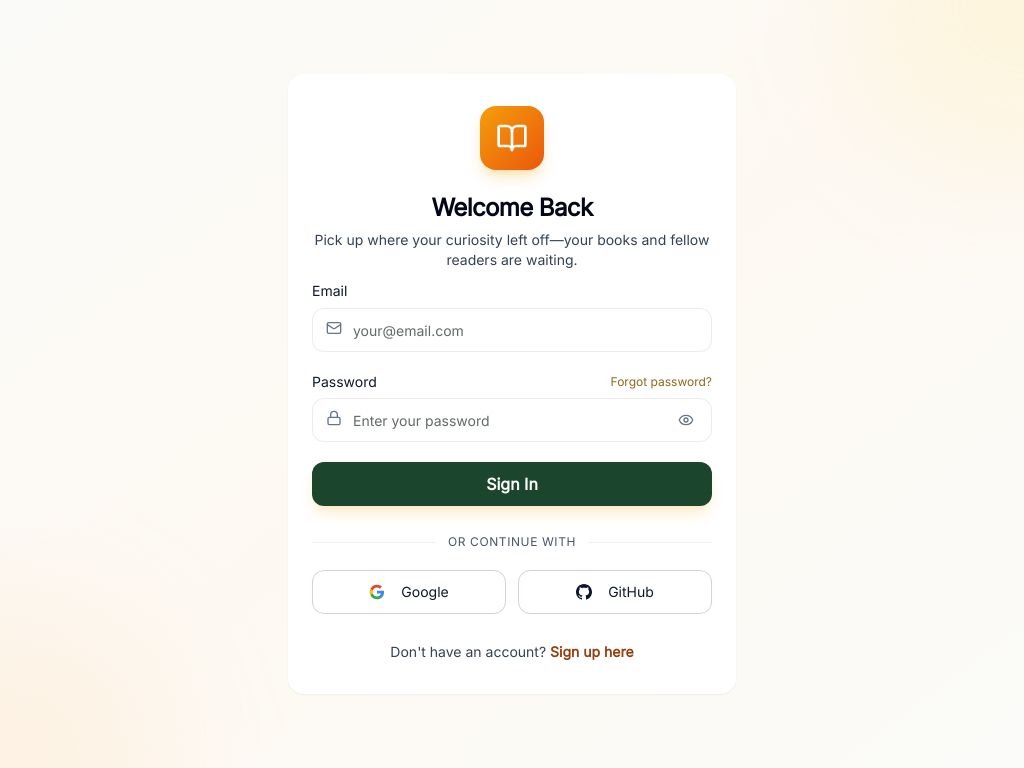
Scenario: Phase 3: Authentication and Account Entry › Dedicated Sign In page (/signin) › validates malformed email before CAPTCHA or authentication
The width and height of the screenshot is (1024, 768).
Type "not-an-email" into the field labelled "Email".
click(512, 330); type("not-an-email")  # box [312,308,712,352]
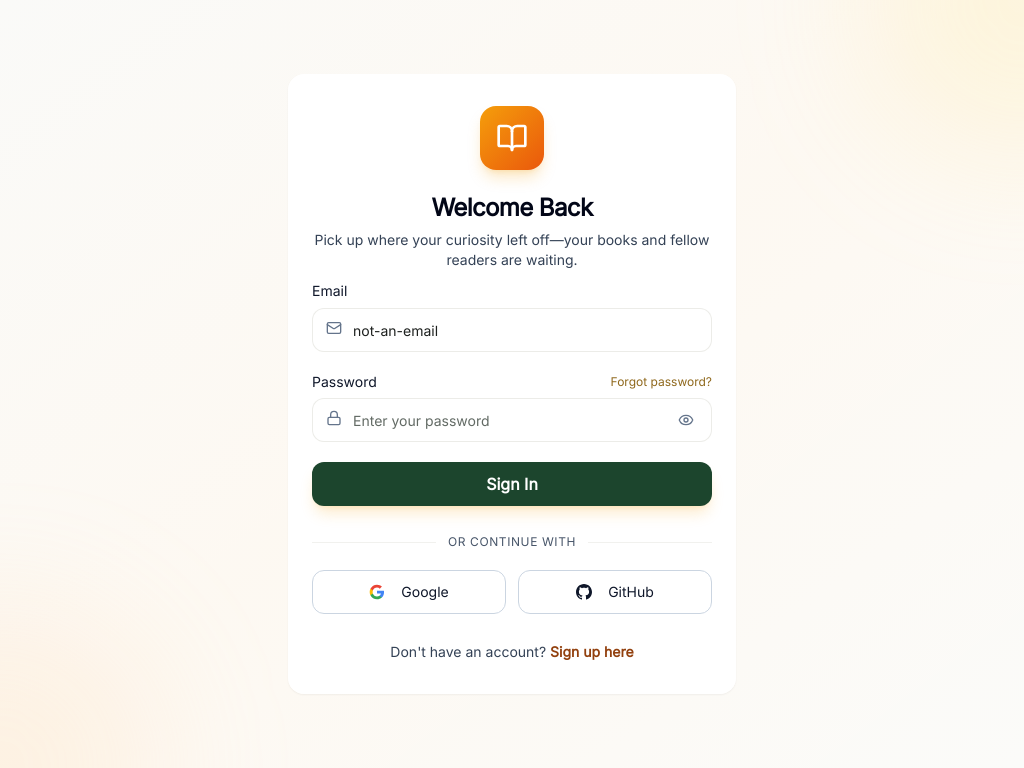
Type "example-password" into the password field labelled "Password".
click(512, 420); type("example-password")  # box [312,398,712,442]
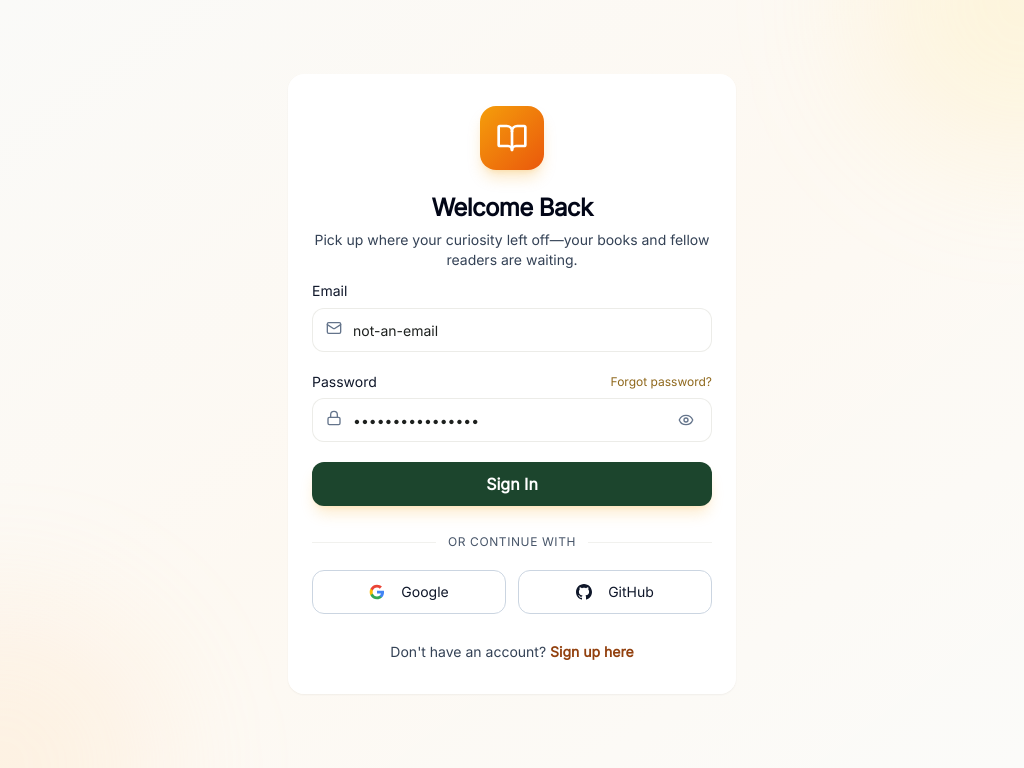
Click the button "Sign In".
click(512, 484)  # box [312,462,712,506]
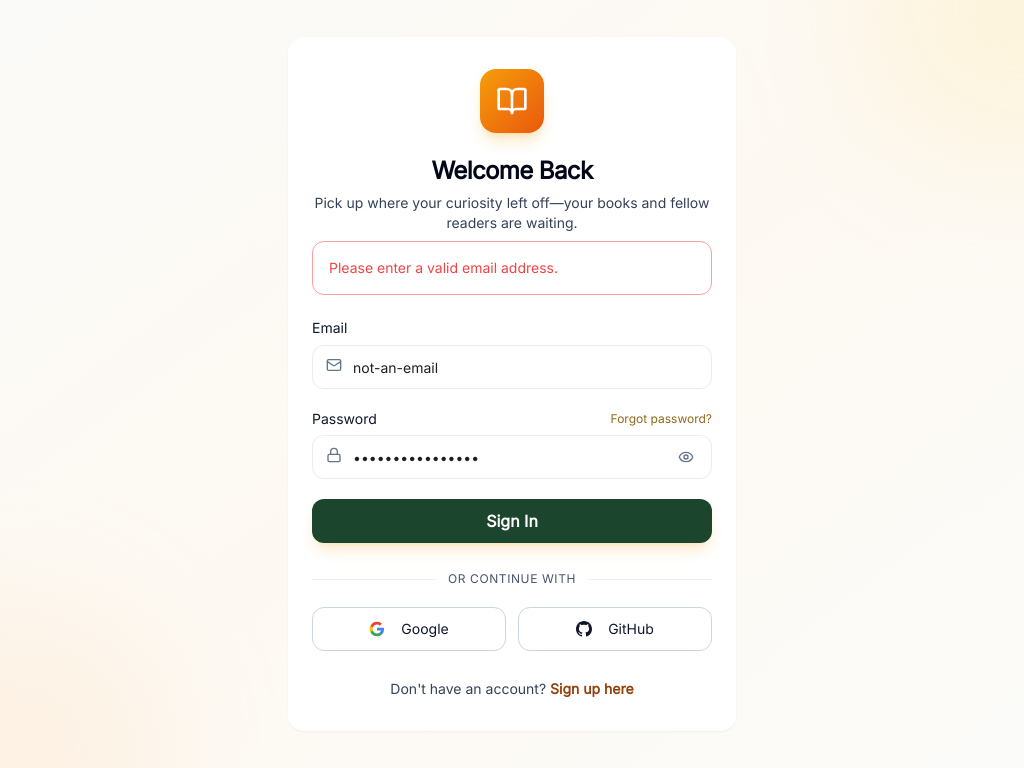
Result: the message shows "Please enter a valid email address" at [329,259,558,276]
